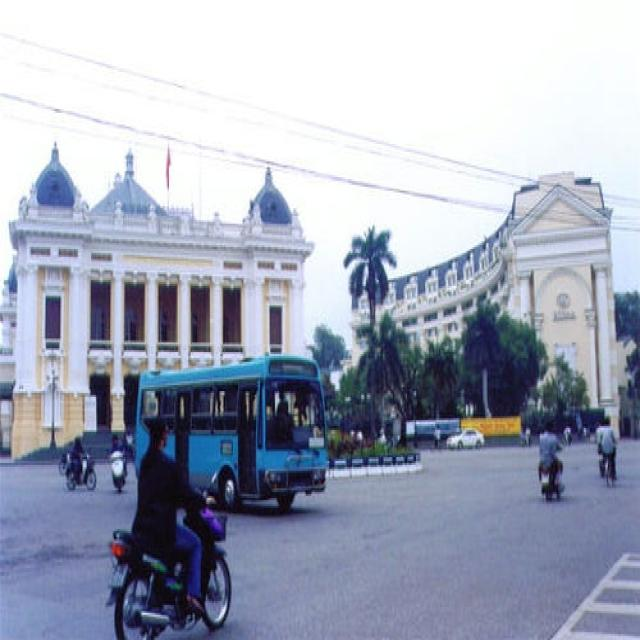motor: (106, 508, 236, 631), (65, 454, 97, 490), (540, 463, 561, 500), (110, 446, 126, 492), (600, 453, 615, 484), (597, 445, 604, 476)
